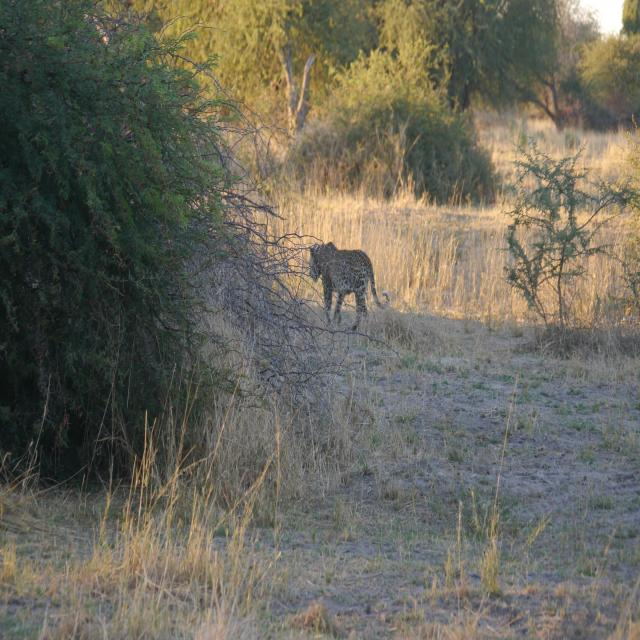Leopard: (292, 246, 391, 338)
